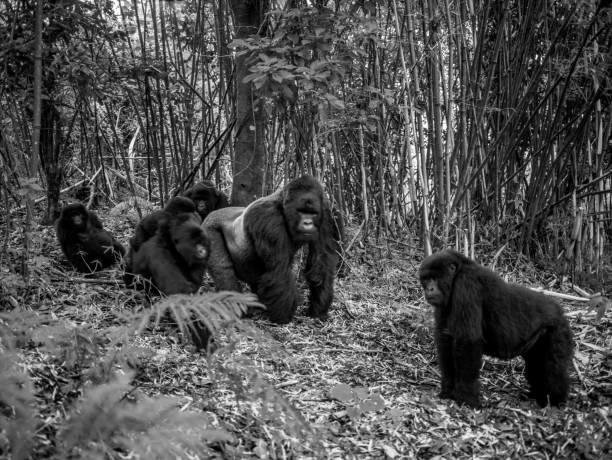goriile_montagne: (412, 236, 606, 422), (210, 182, 344, 318), (135, 212, 206, 312), (56, 200, 124, 274)
